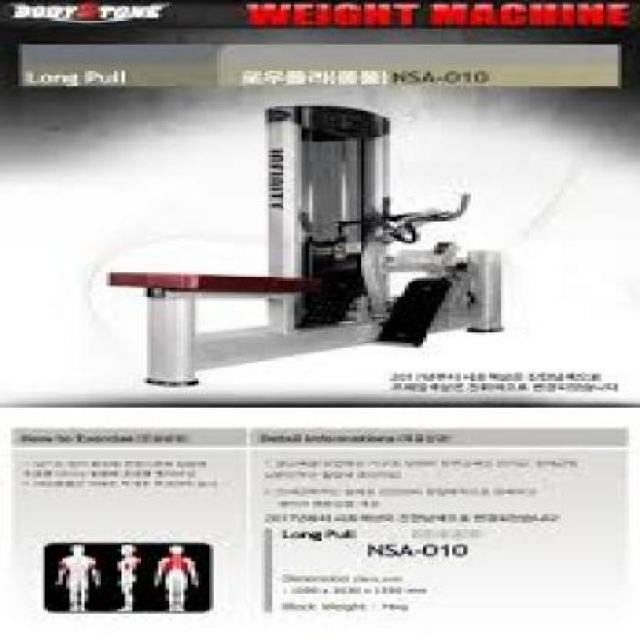Seated Cable Rows: (95, 99, 523, 388)
